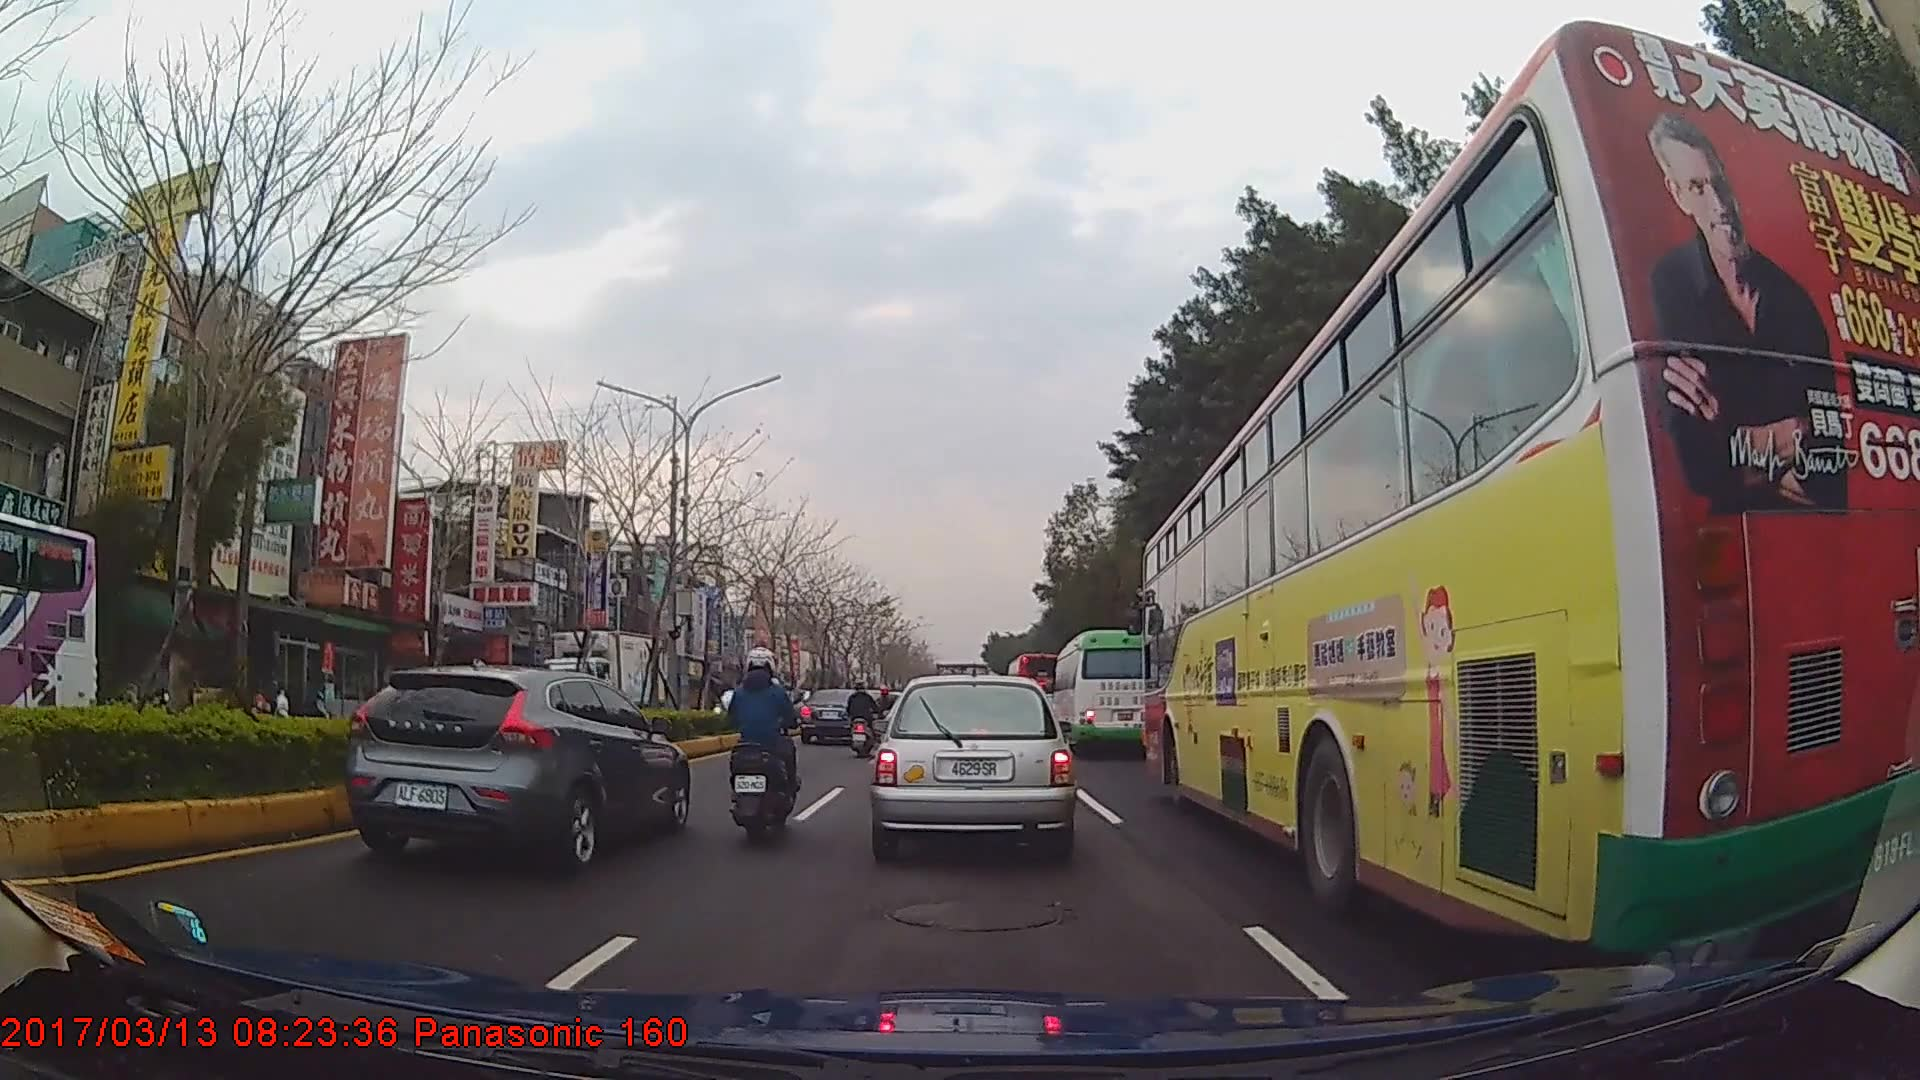rider: (726, 643, 805, 831), (751, 670, 790, 773), (847, 680, 882, 752), (875, 684, 898, 740)
vehicle: (1142, 15, 1920, 960), (347, 662, 692, 868), (872, 669, 1074, 854), (0, 507, 99, 761), (508, 618, 679, 756), (1052, 628, 1170, 756), (1004, 650, 1067, 724), (801, 687, 875, 743)
